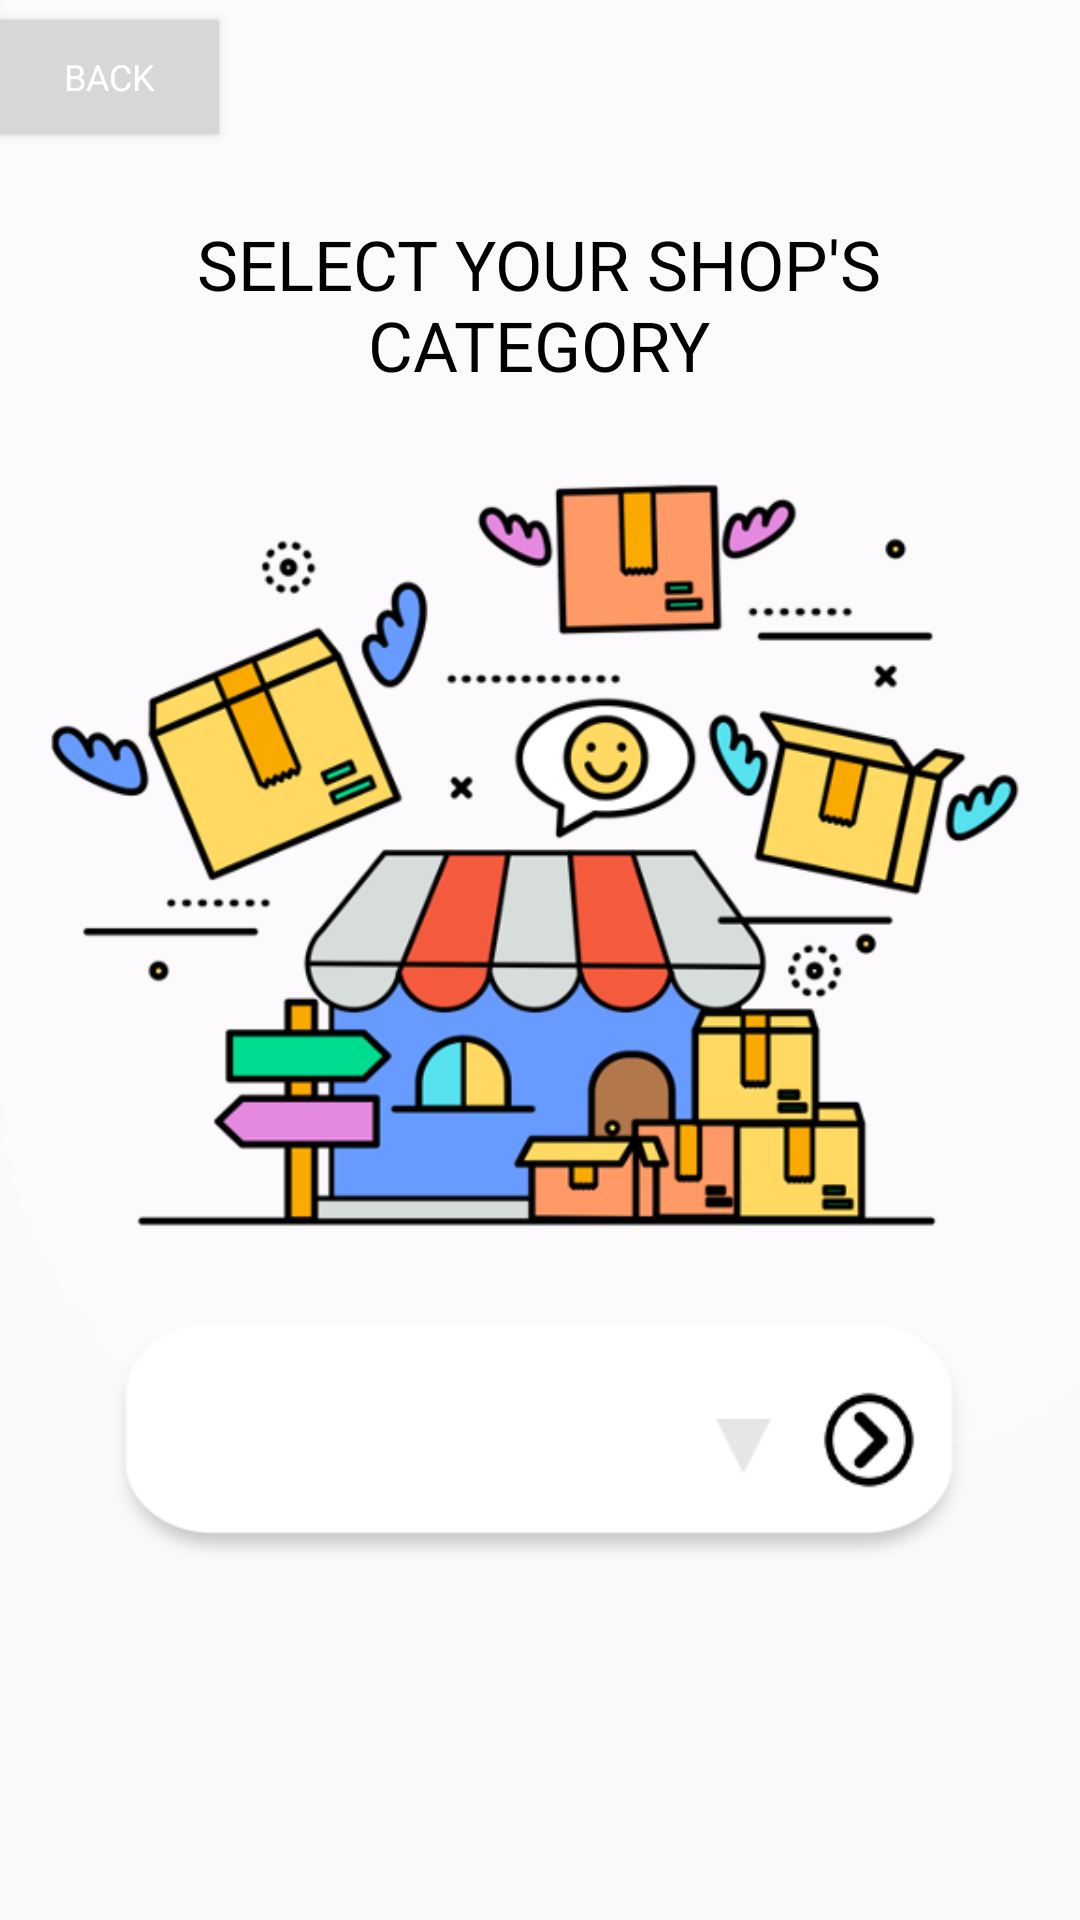

Icons on this 1080*1920 Android screen, each with its box as (x1, y1, x2, y2):
dropdowntriangle: (719, 1419, 768, 1469)
forwardbtn: (824, 1392, 914, 1488)
